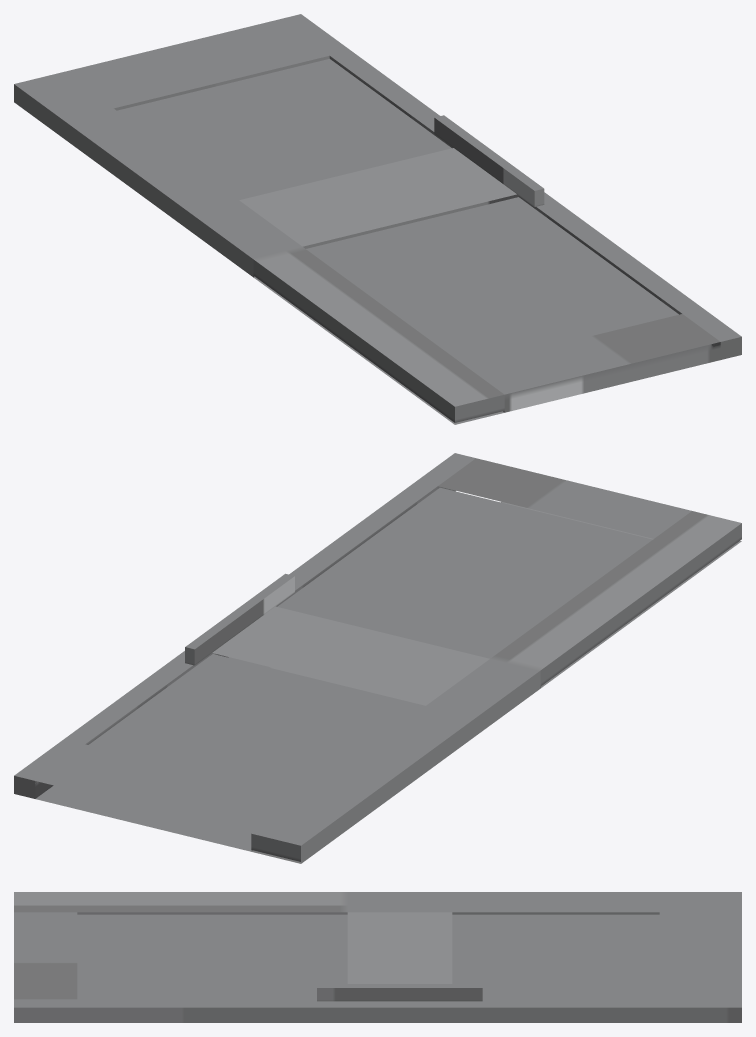
The picture shows the model from 3 angles, top to bottom: view 1: azimuth 30°, elevation 25°; view 2: azimuth 150°, elevation 25°; view 3: azimuth 270°, elevation 25°; orthographic projection. The views are drawn at different scales.
Size of the model in its own units: 0.744 by 0.0875 by 1.98.
